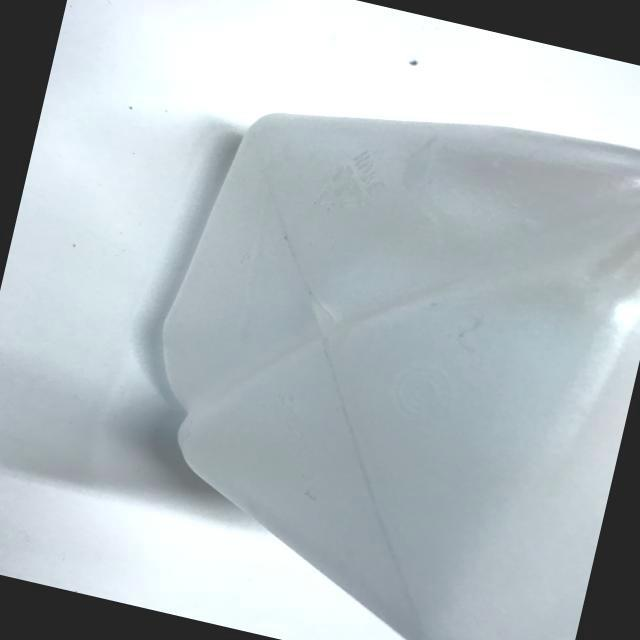plastic: (42, 23, 640, 640)
